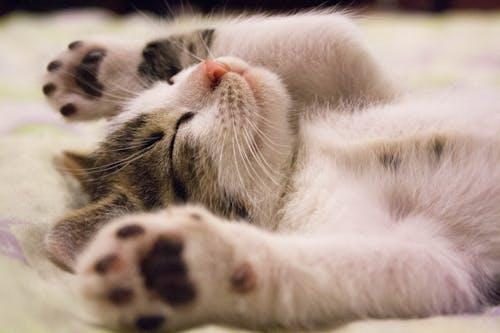kedo: (41, 15, 499, 332)
